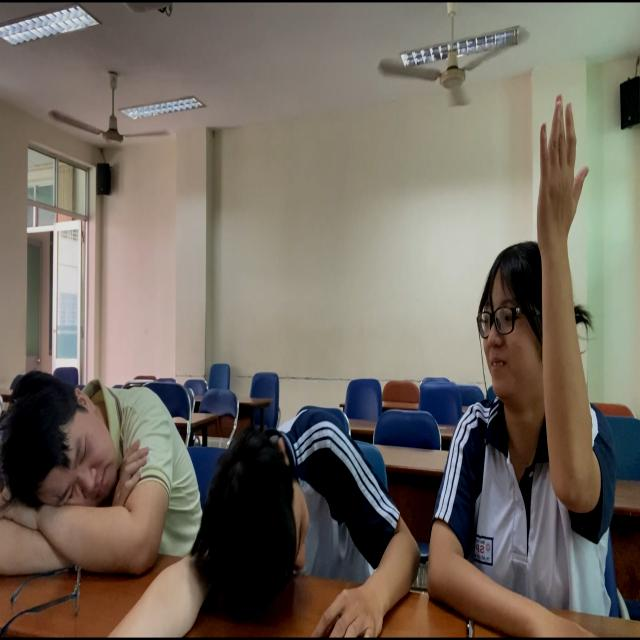raise_hand: (476, 92, 616, 635)
sleep: (198, 410, 422, 640), (1, 370, 197, 575)
